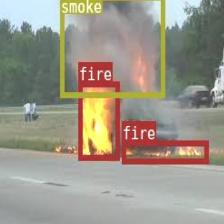fire: (78, 80, 119, 159), (122, 139, 208, 163)
smoke: (60, 0, 164, 96)
